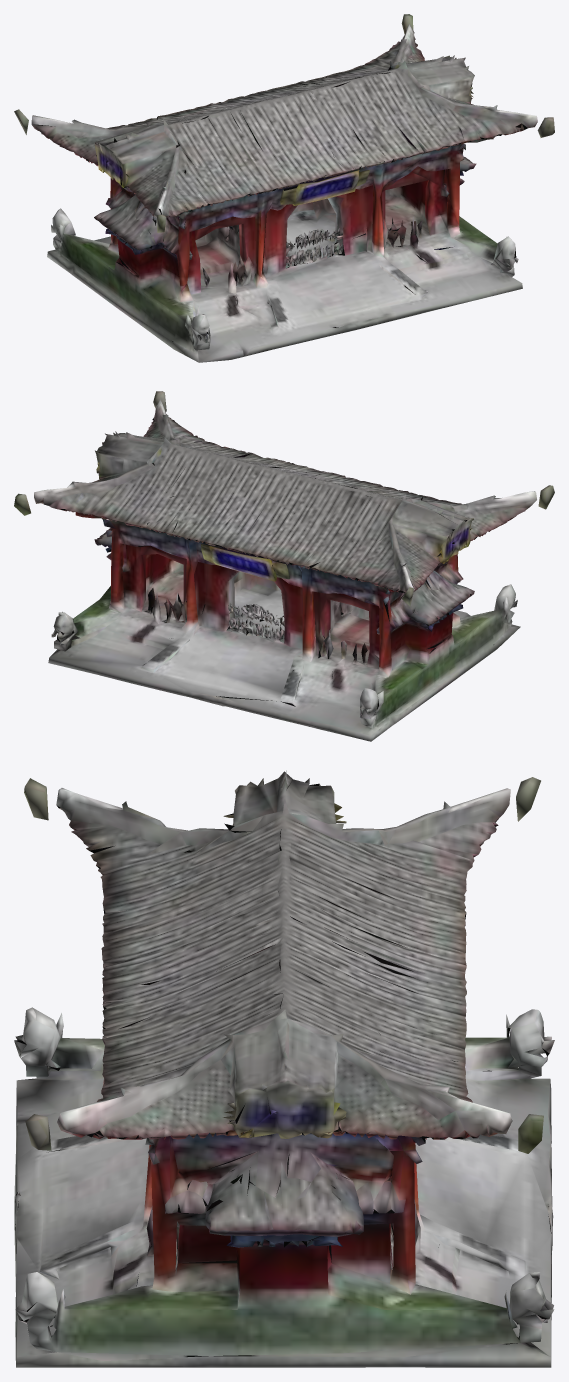
Rendered from lib_paifang.bk.glb.
3 views of the same model, one above another, from view 1: azimuth 30°, elevation 25°; view 2: azimuth 150°, elevation 25°; view 3: azimuth 270°, elevation 25° (orthographic). The views are drawn at different scales.
Parts seen in each view (by area): view 1: lo; view 2: lo; view 3: lo.
Boxes of the visible parts, bbox=[...] form: lo: bbox=[14, 14, 554, 362]; lo: bbox=[14, 391, 554, 741]; lo: bbox=[14, 770, 554, 1367].
Bounding box in the file's own units: 1.89 × 0.8312 × 1.25.
1 material, 1 textured.
